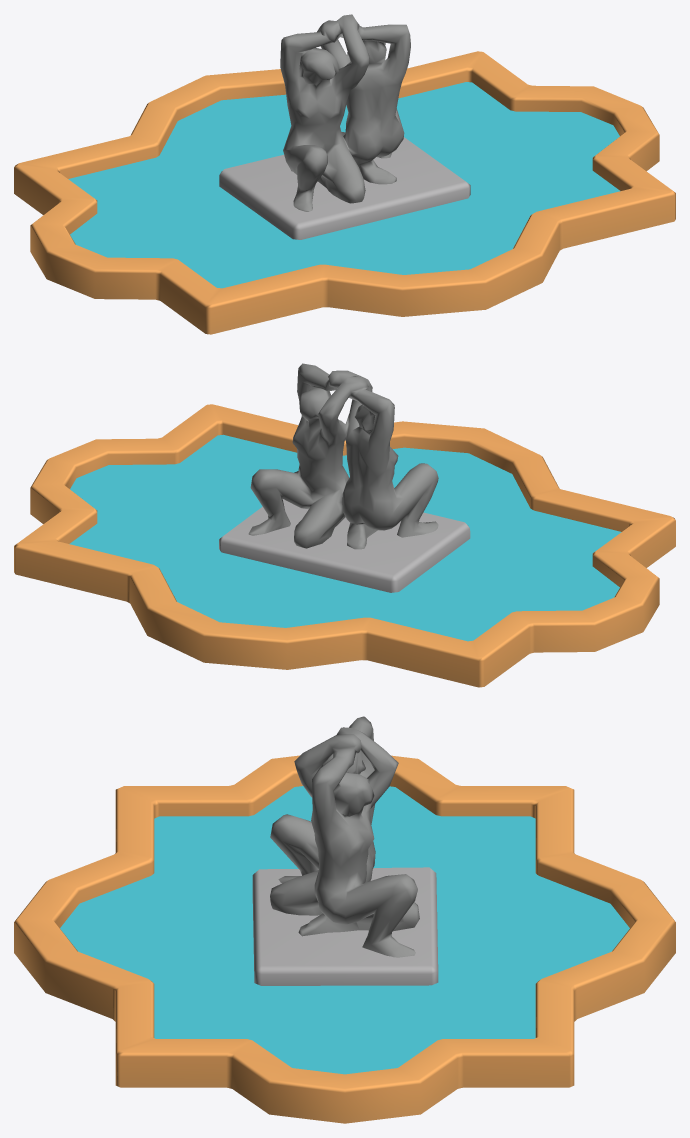
Rendered from fountain_001.gltf.
The picture shows the model from 3 angles, top to bottom: view 1: azimuth 30°, elevation 25°; view 2: azimuth 150°, elevation 25°; view 3: azimuth 270°, elevation 25°; orthographic projection. The views are drawn at different scales.
Visible parts, largest first — view 1: fountain_001; view 2: fountain_001; view 3: fountain_001.
Boxes of the visible parts, <box> form: fountain_001: <box>14,14,675,334</box>; fountain_001: <box>14,363,675,687</box>; fountain_001: <box>14,716,675,1123</box>.
Bounding box in the file's own units: 11.46 × 3.44 × 9.39.
Materials: 1 (1 with a texture image).
